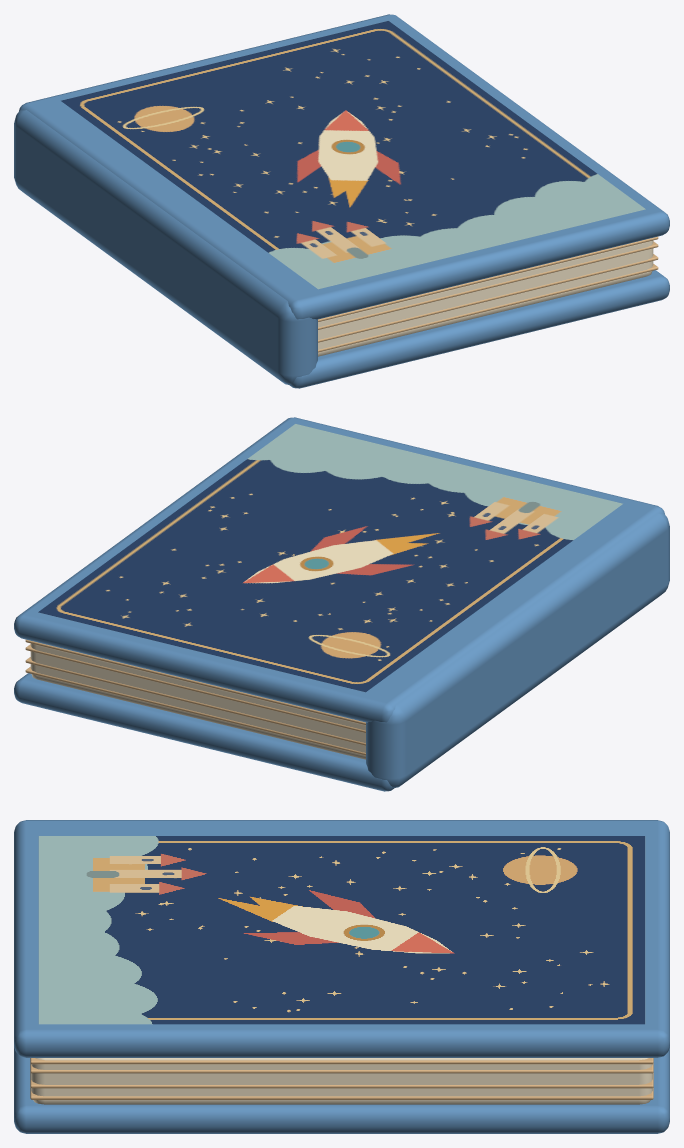
Rendered from playroom_picture_book.glb.
3 views of the same model, one above another, from view 1: azimuth 30°, elevation 25°; view 2: azimuth 150°, elevation 25°; view 3: azimuth 270°, elevation 25° (orthographic). The views are drawn at different scales.
Parts seen in each view (by area): view 1: playroom_picture_book; view 2: playroom_picture_book; view 3: playroom_picture_book.
Boxes of the visible parts, x1,y1,x2,y2 form: playroom_picture_book: [14, 14, 669, 388]; playroom_picture_book: [14, 417, 669, 791]; playroom_picture_book: [14, 820, 669, 1133].
Size of the model in its own units: 1.7 by 0.37 by 2.12.
Materials: 4 (1 with a texture image).
